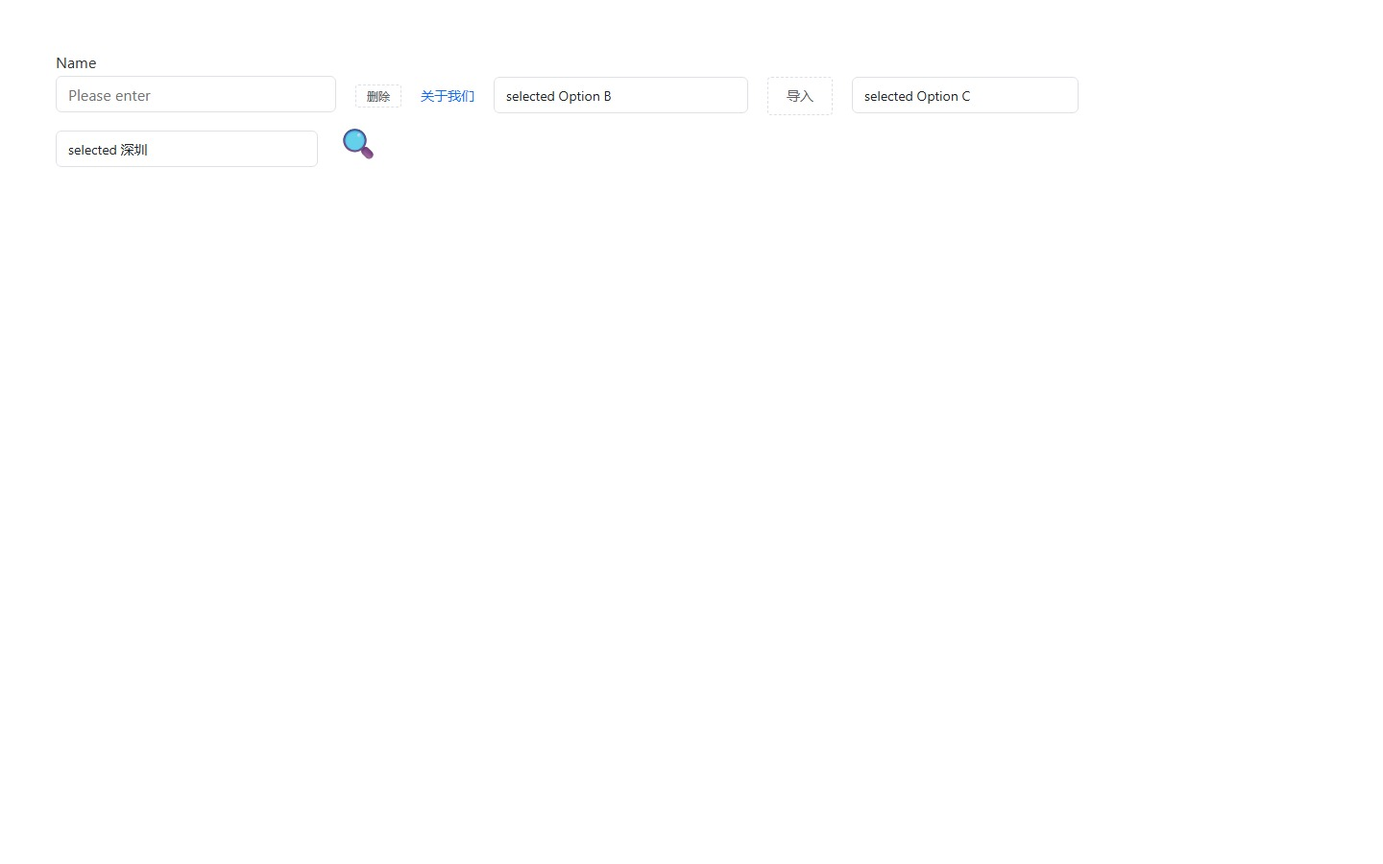button: (767, 76, 833, 115), (355, 84, 401, 107)
icon: (337, 126, 379, 157)
input: (56, 76, 336, 112)
link: (421, 86, 474, 104)
select: (56, 131, 318, 167), (494, 77, 748, 113), (852, 77, 1079, 113)
